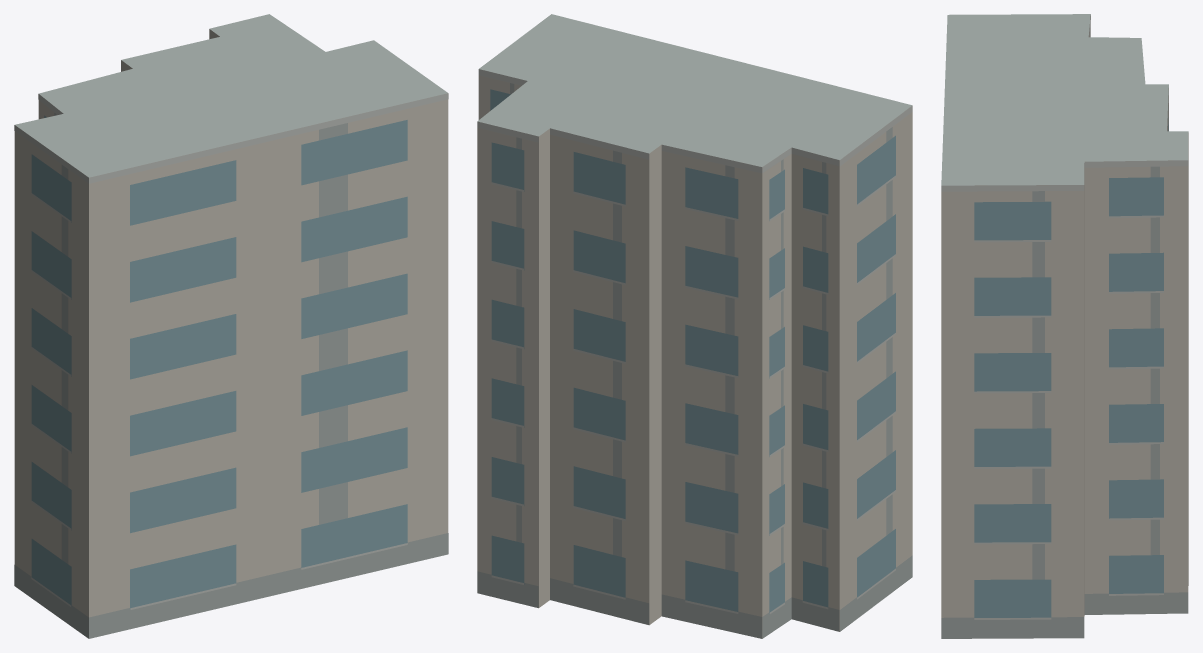
Rendered from survey-upis-32933520.glb.
The picture shows the model from 3 angles, left to right: view 1: azimuth 30°, elevation 25°; view 2: azimuth 150°, elevation 25°; view 3: azimuth 270°, elevation 25°; orthographic projection. The views are drawn at different scales.
Parts seen in each view (by area): view 1: survey-upis-32933520.tmp; view 2: survey-upis-32933520.tmp; view 3: survey-upis-32933520.tmp.
Part boxes in pixels (box(x1,y1,x2,y2)): survey-upis-32933520.tmp: box(14, 14, 448, 638); survey-upis-32933520.tmp: box(477, 14, 912, 638); survey-upis-32933520.tmp: box(941, 14, 1188, 638).
Size of the model in its own units: 14.87 by 18.3 by 9.07.
